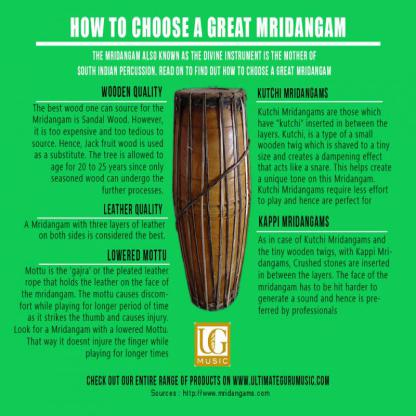Mridangam: (164, 79, 257, 314)
